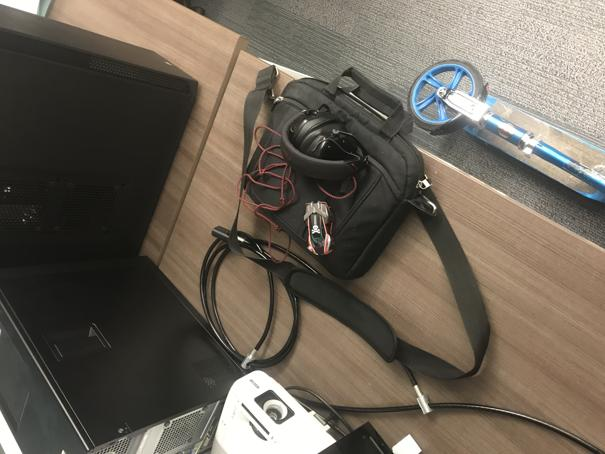Skull: (303, 200, 334, 256)
